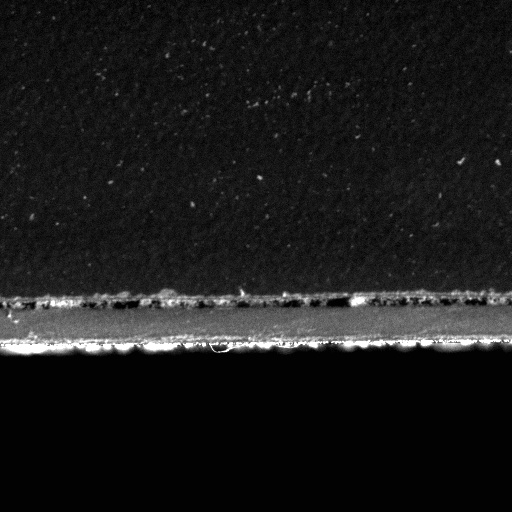jiaofeng: (368, 292, 511, 312), (227, 293, 353, 313), (71, 295, 167, 314)
